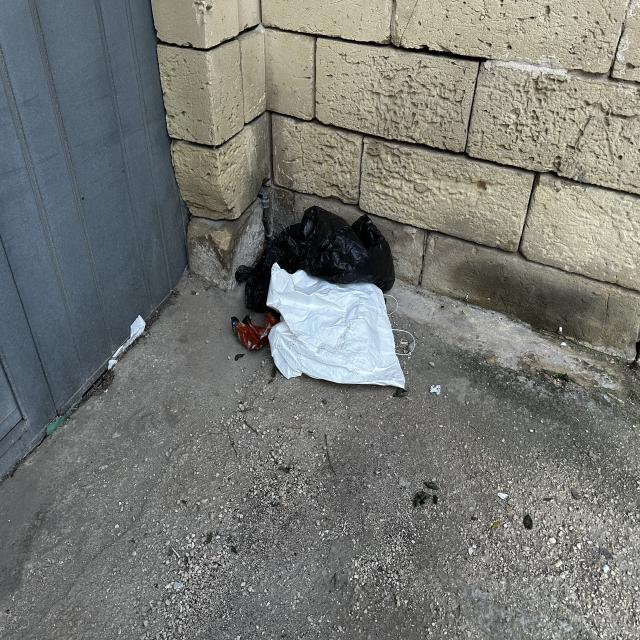Mixed Waste -Black Bags-: (235, 206, 395, 313)
Others Waste: (266, 262, 405, 389)
